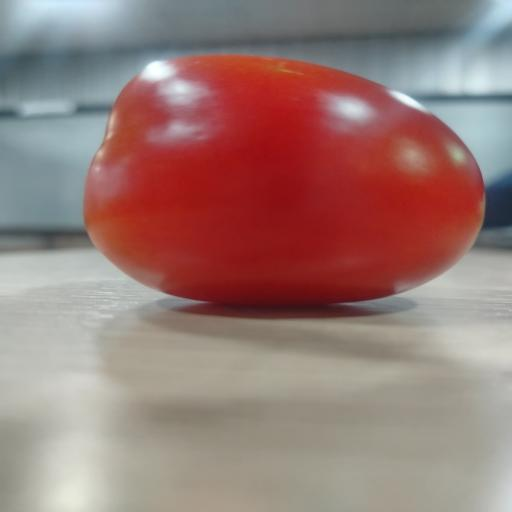ripe: (84, 55, 484, 305)
